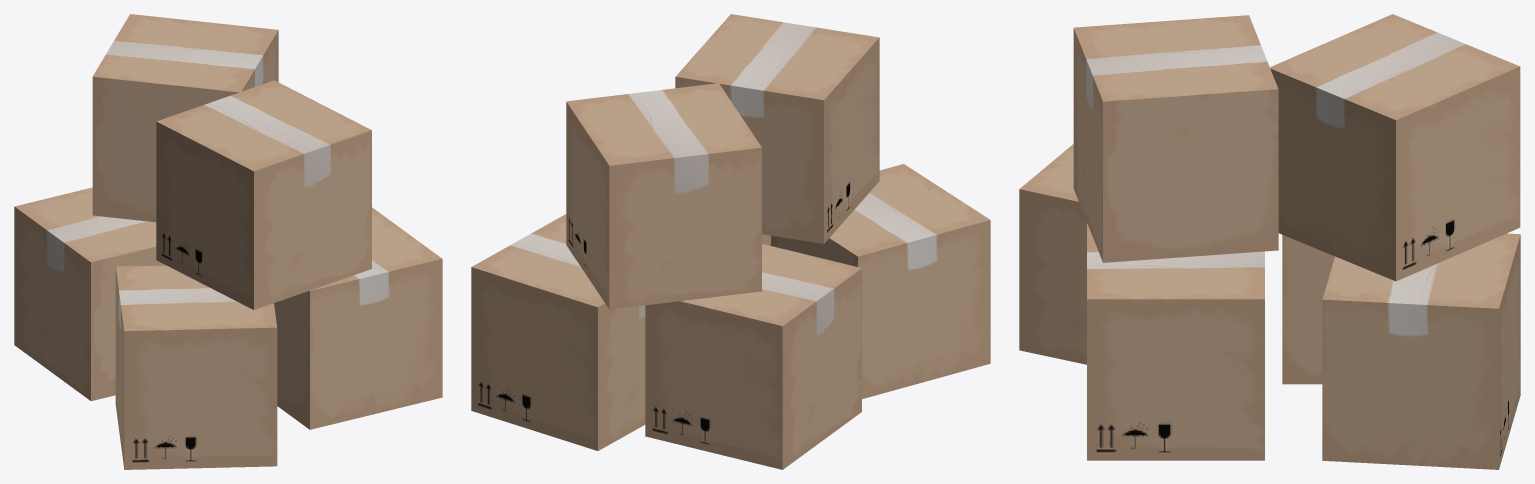
Rendered from CardBoardBox.FBX.
The picture shows the model from 3 angles, left to right: view 1: azimuth 30°, elevation 25°; view 2: azimuth 150°, elevation 25°; view 3: azimuth 270°, elevation 25°; orthographic projection. The views are drawn at different scales.
Visible parts, largest first — view 1: CardBoardBox04, CardBoardBox03, CardBoardBox05, CardBoardBox00, CardBoardBox02; view 2: CardBoardBox00, CardBoardBox02, CardBoardBox01, CardBoardBox04, CardBoardBox03; view 3: CardBoardBox00, CardBoardBox04, CardBoardBox01, CardBoardBox05, CardBoardBox03, CardBoardBox02.
Boxes of the visible parts, x1,y1,x2,y2 form: CardBoardBox04: (156,80,371,309); CardBoardBox03: (115,265,277,469); CardBoardBox05: (274,207,442,429); CardBoardBox00: (92,14,278,222); CardBoardBox02: (14,187,165,401); CardBoardBox00: (566,83,761,309); CardBoardBox02: (645,244,861,469); CardBoardBox01: (471,214,645,450); CardBoardBox04: (675,14,879,243); CardBoardBox03: (771,164,990,398); CardBoardBox00: (1270,14,1520,281); CardBoardBox04: (1073,15,1278,262); CardBoardBox01: (1322,233,1520,469); CardBoardBox05: (1087,224,1264,460); CardBoardBox03: (1019,144,1087,364); CardBoardBox02: (1282,235,1334,384).
Size of the model in its own units: 8.5 by 6.85 by 9.64.
1 material, 1 textured.
